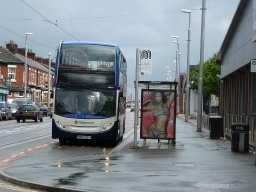bus: (51, 36, 127, 150)
